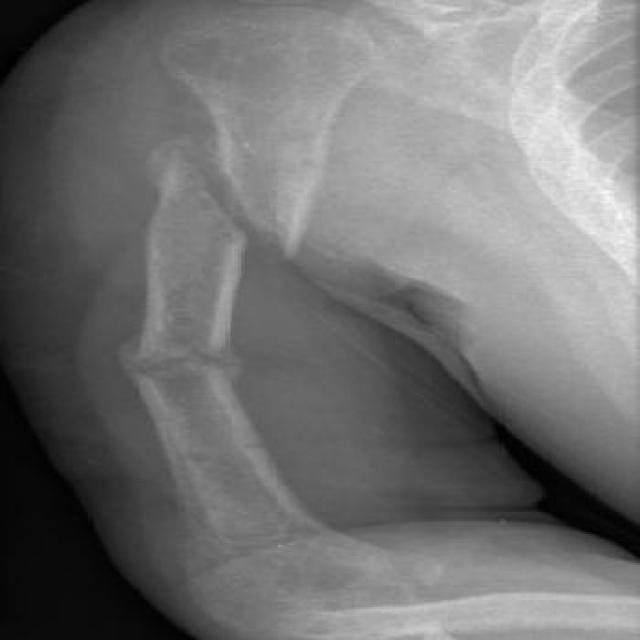Fracture: (157, 122, 321, 272), (88, 333, 292, 395)
